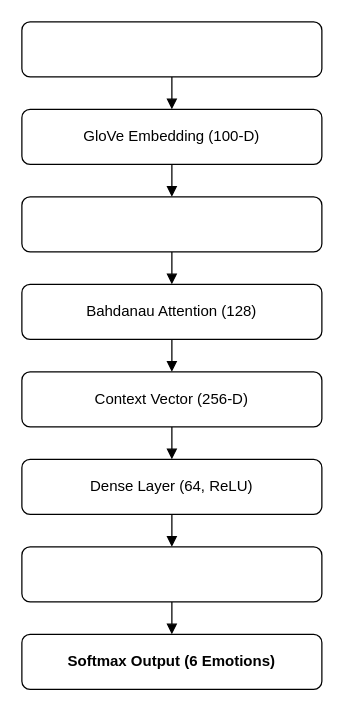
This 344x711 diagram has some shape labels left out. The shapes that lost their labels are listed below. From the top down, each one's centre as x and y in pixels, then its label:
point (171, 49): Input Text
point (171, 224): BiLSTM (128 units/direction)
point (171, 574): Dropout (0.5)
